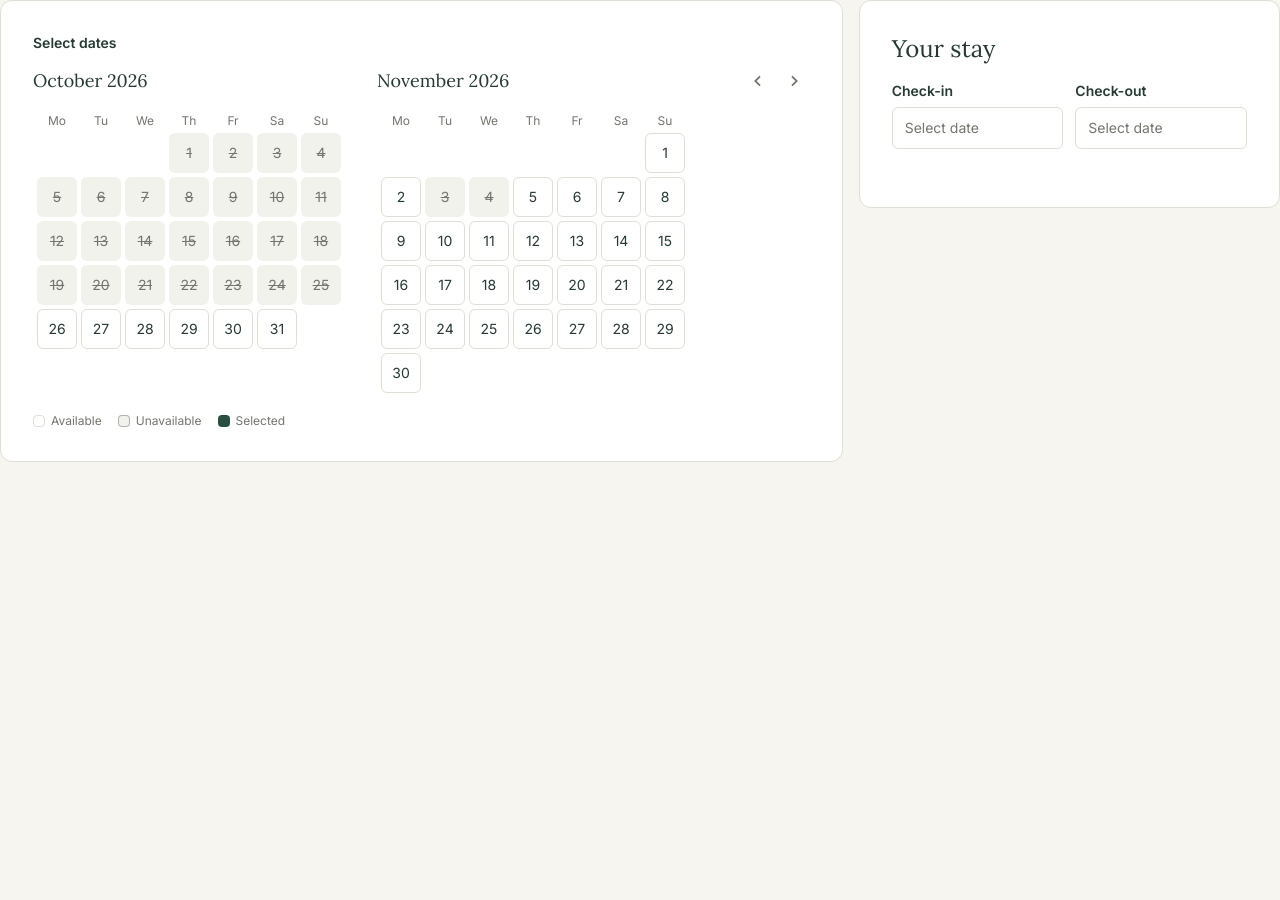
it: BookingSection › reloads the dates after closing the confirmation
This screenshot has width=1280, height=900.
Click the button named "Sunday, November 8th, 2026".
click(665, 197)  # box top-left (645, 177), bottom-right (685, 217)
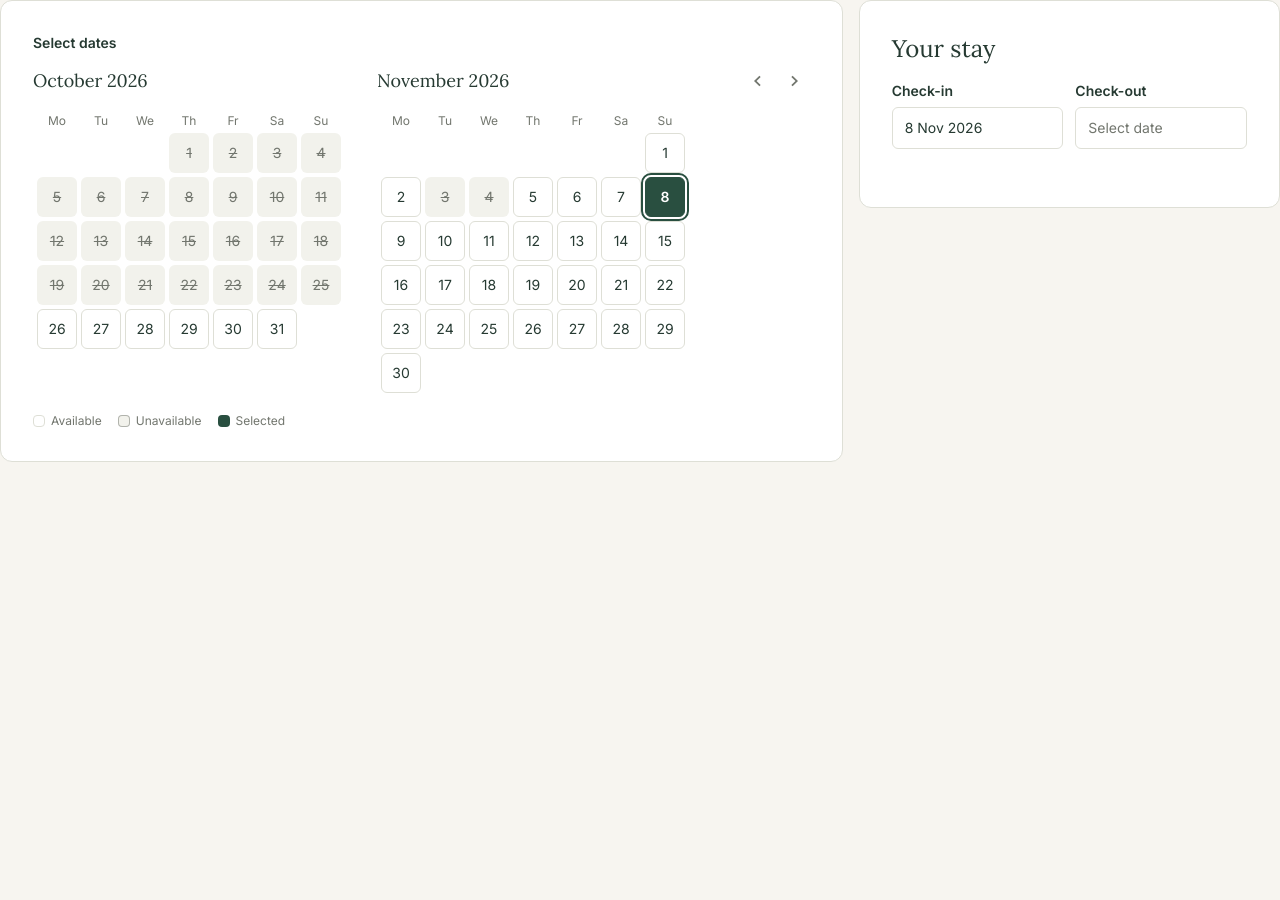
Click the button "11" below "November 2026".
click(489, 241)  # box top-left (469, 221), bottom-right (509, 261)
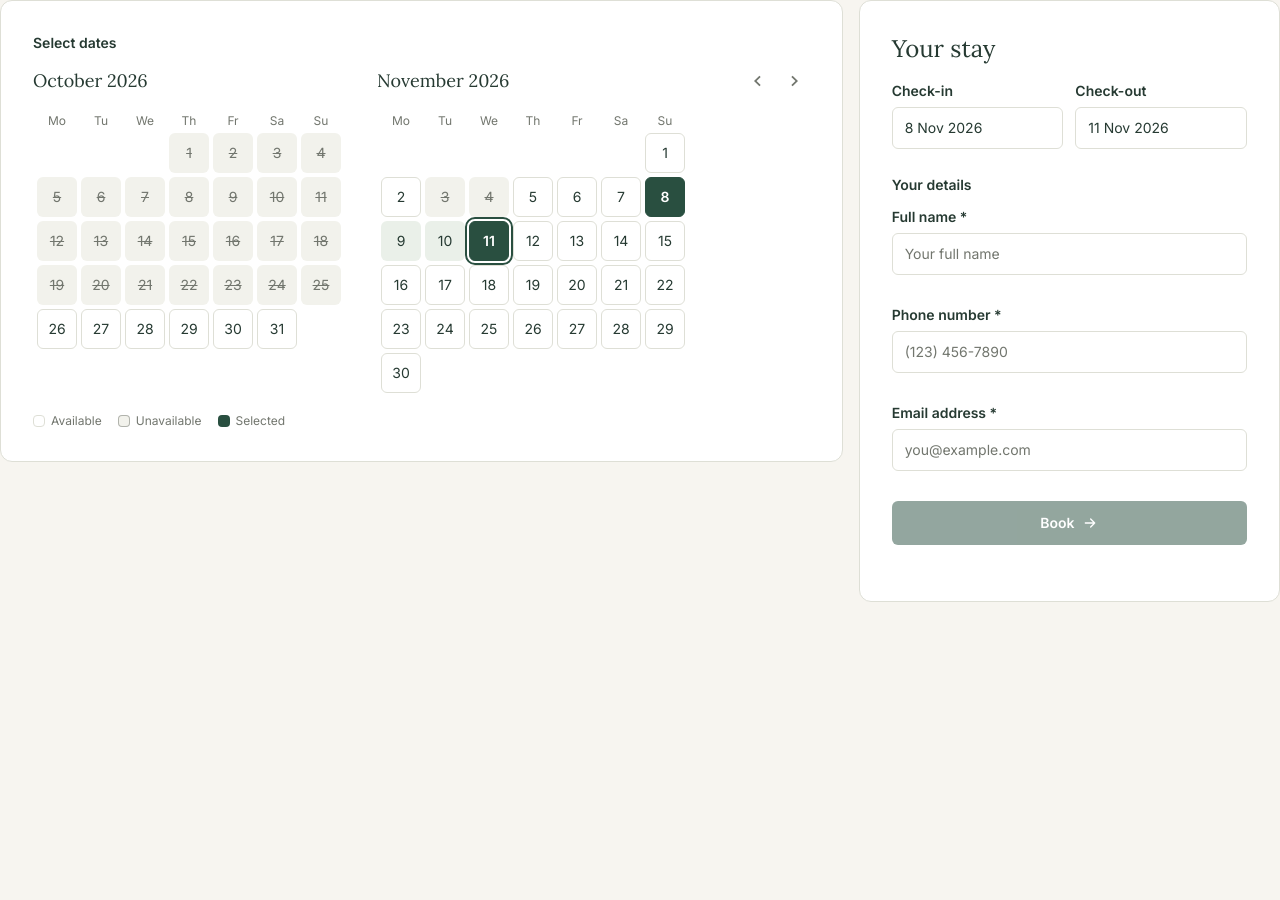
Type "Maya Chen" into the field labelled "Full name".
click(1069, 254); type("Maya Chen")  # box top-left (892, 233), bottom-right (1247, 275)
Type "5551234567" into the field labelled "Phone number".
click(1069, 352); type("5551234567")  # box top-left (892, 331), bottom-right (1247, 373)
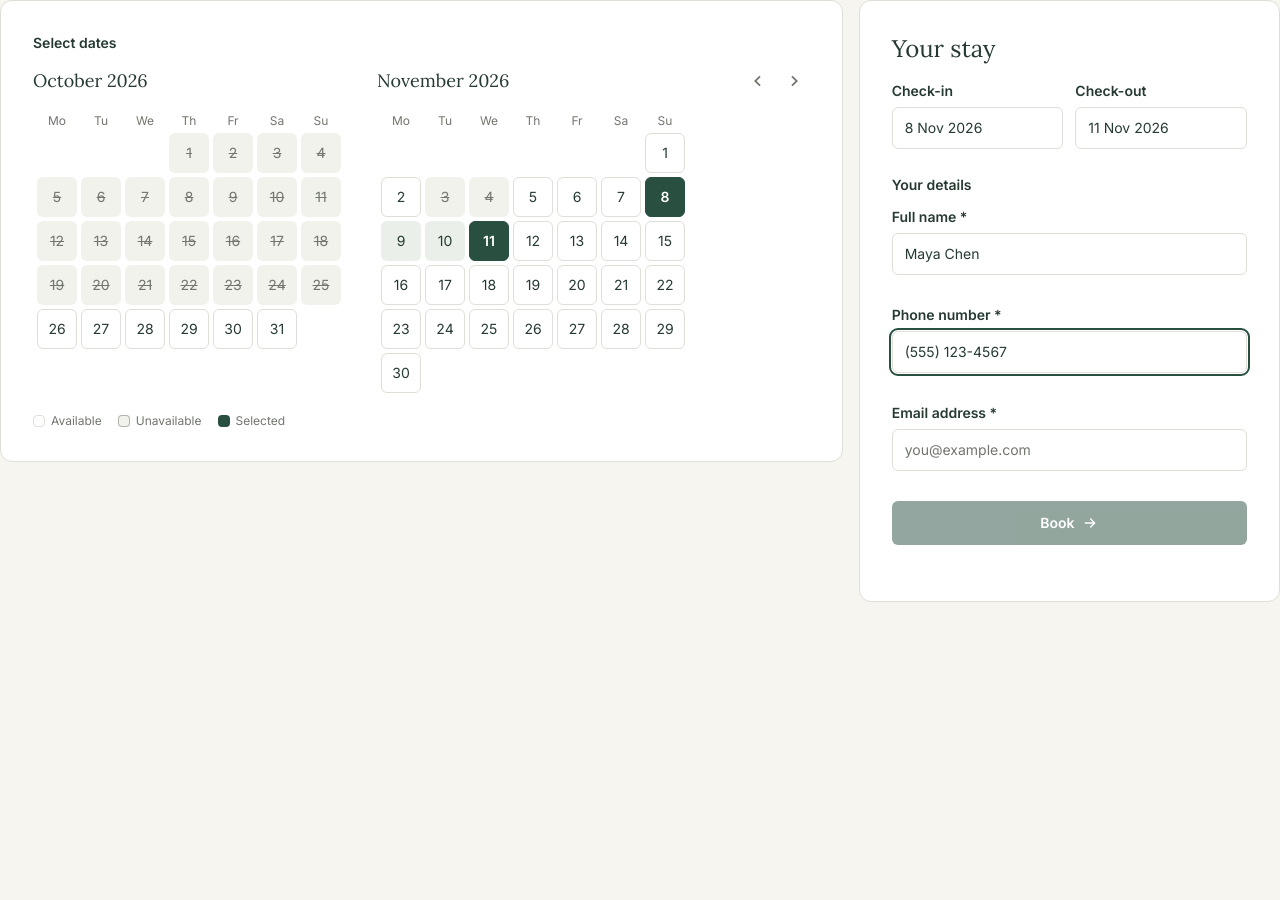
Type "maya.chen@example.com" into the field labelled "Email address".
click(1069, 450); type("maya.chen@example.com")  # box top-left (892, 429), bottom-right (1247, 471)
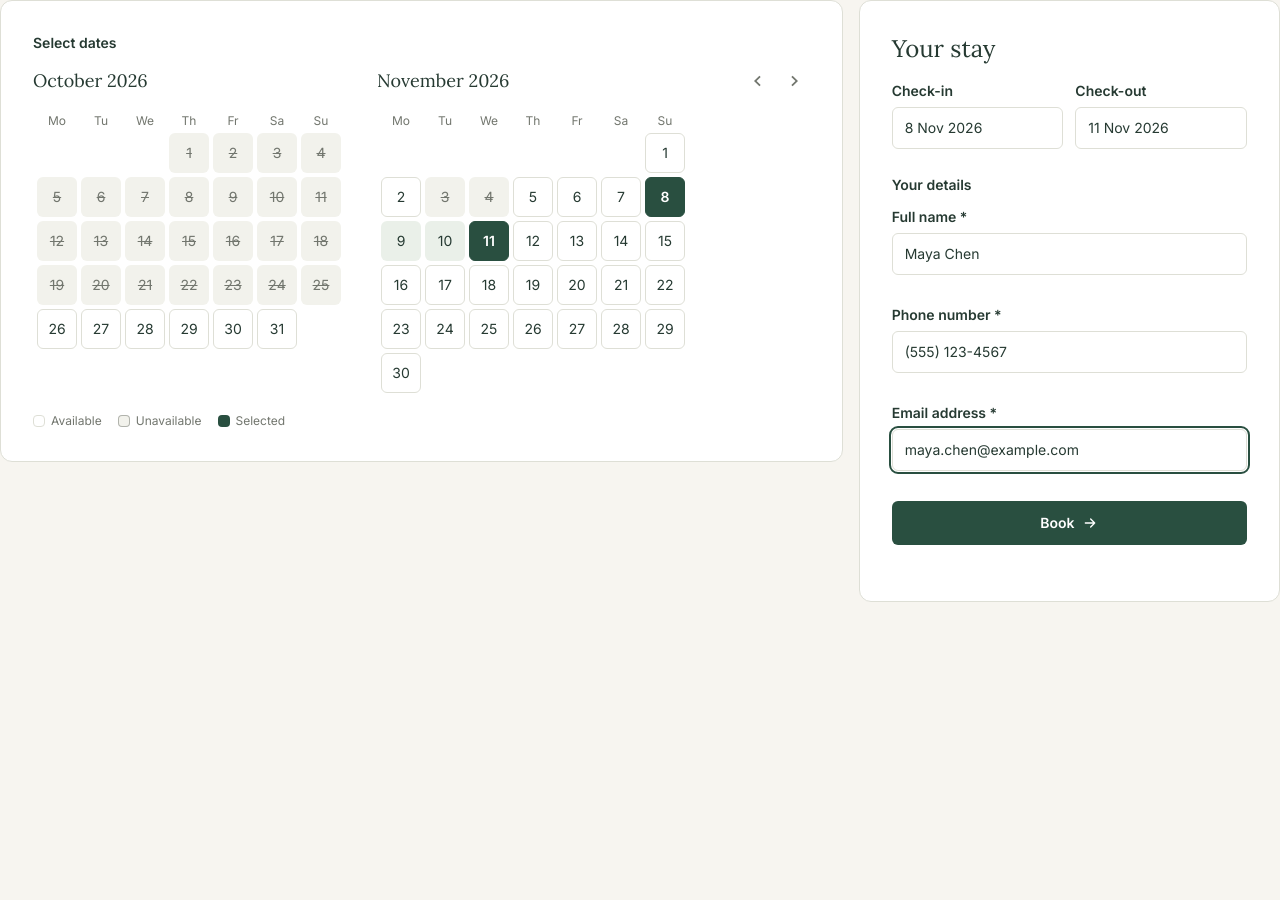
Click the button "Book".
click(1069, 523)  # box top-left (892, 501), bottom-right (1247, 545)
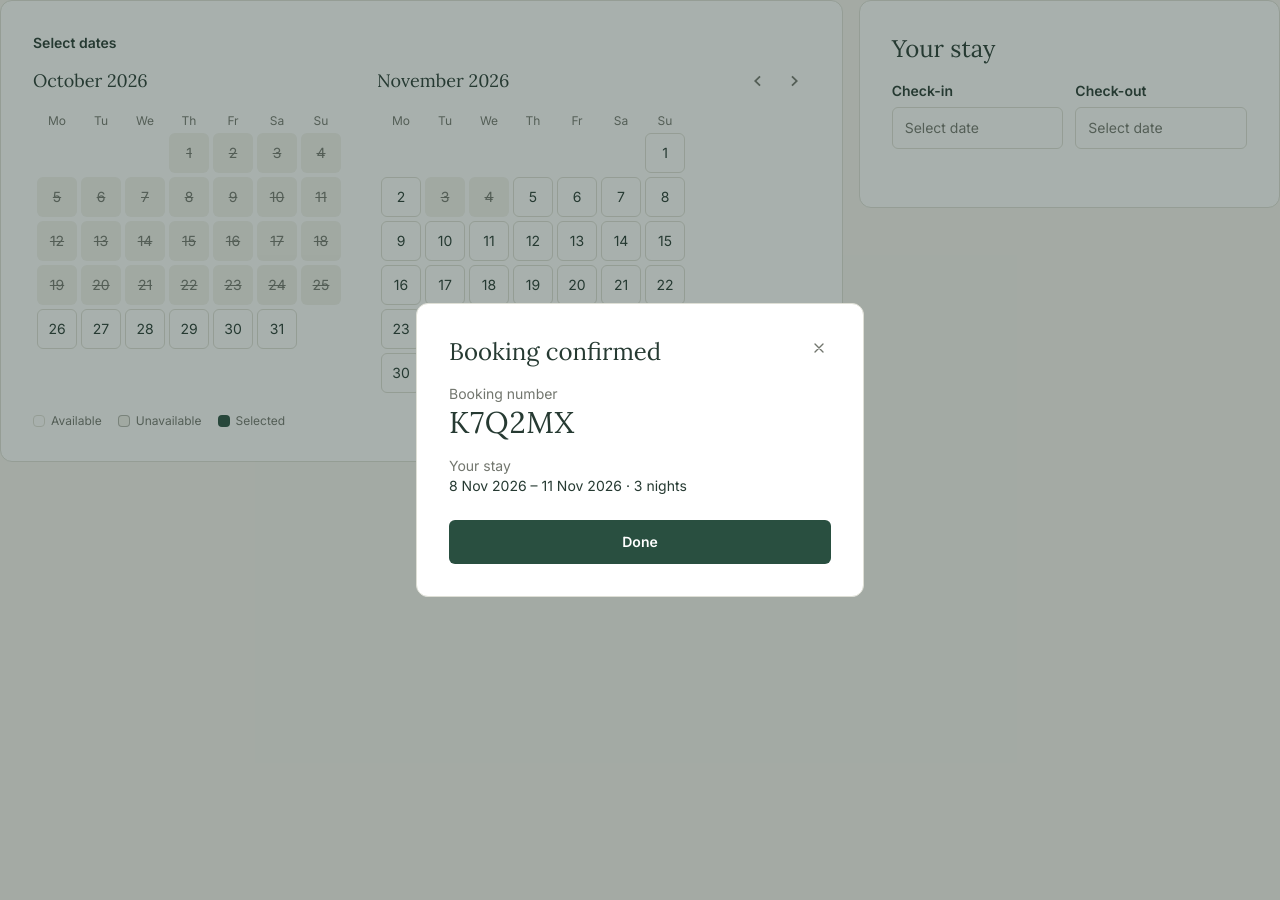
Click the button "Done".
click(640, 542)  # box top-left (449, 520), bottom-right (831, 564)
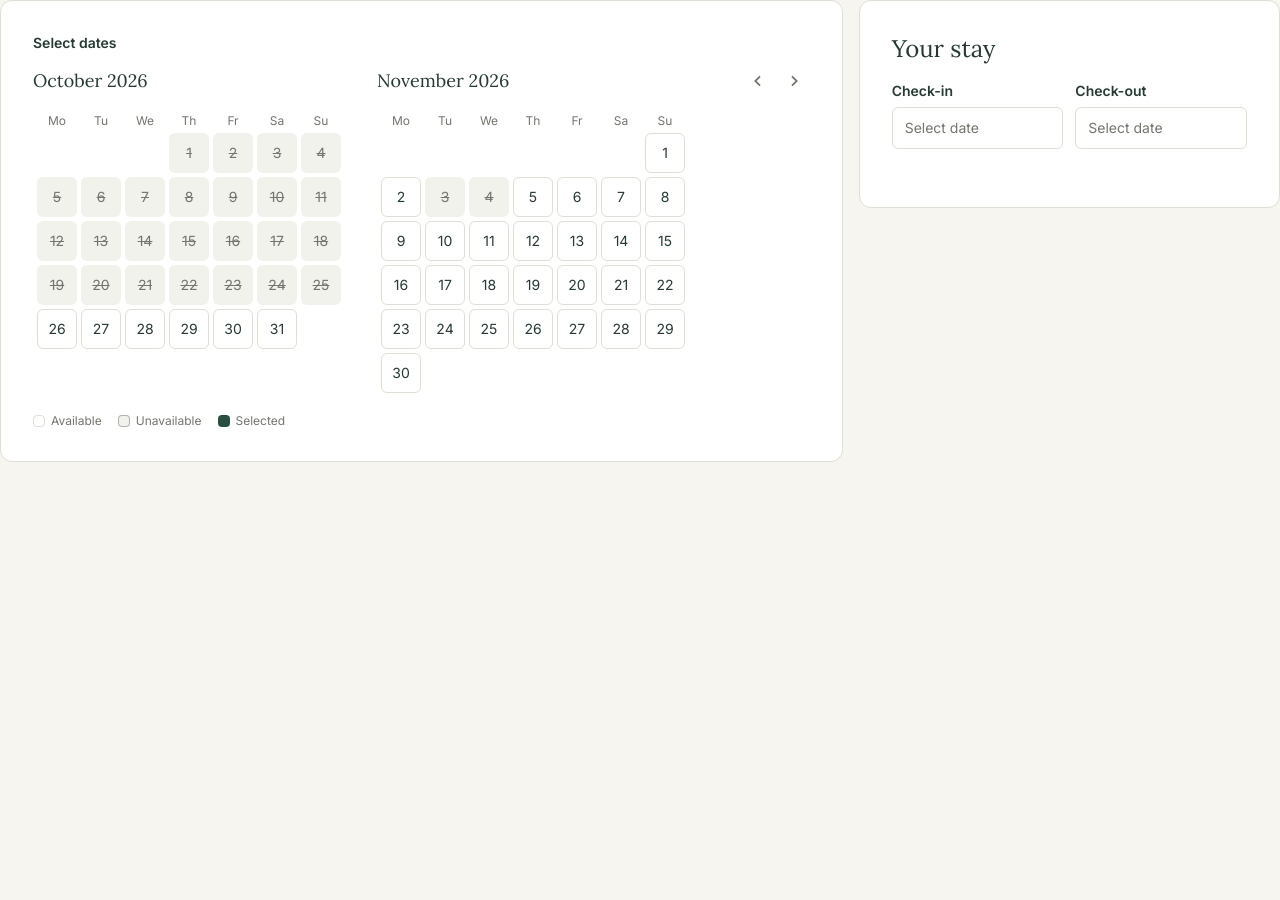
Expected: the field labelled "Check-in" is empty, top-left (892, 107), bottom-right (1063, 149)
Expected: the dialog is gone
